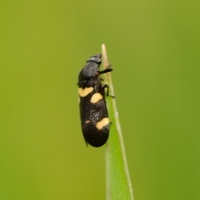insect: (78, 54, 111, 146)
